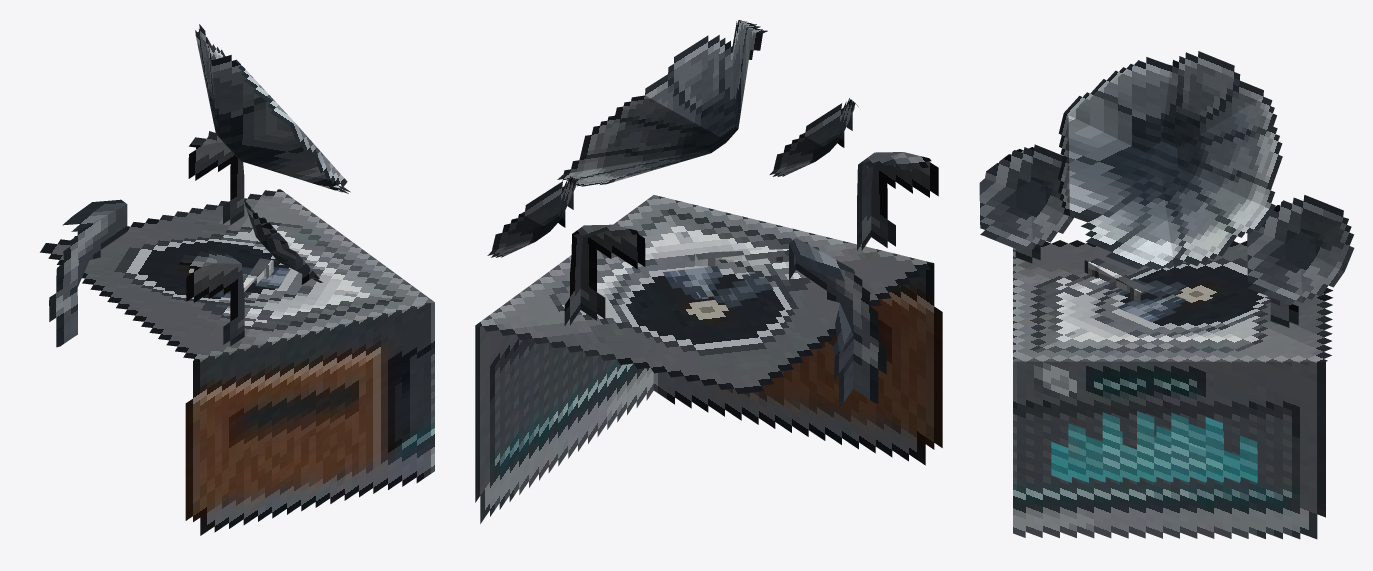
3 renders of one model, left to right at view 1: azimuth 30°, elevation 25°; view 2: azimuth 150°, elevation 25°; view 3: azimuth 270°, elevation 25°, orthographic. The views are drawn at different scales.
Parts seen in each view (by area): view 1: base, head_3, hose_3, hose_1, hose_2, head_1, stick; view 2: base, head_3, hose_3, hose_1, hose_2, head_2, head_1, lp_3, stick, lp_2; view 3: base, head_3, head_2, eq_1, head_1, eq_2, lp_3, stick, hose_2, eq_3, lp_2.
Boxes of the visible parts, left/top/right/bottom form: base: left=40, top=189, right=434, bottom=535; head_3: left=195, top=24, right=350, bottom=193; hose_3: left=49, top=199, right=127, bottom=347; hose_1: left=178, top=250, right=244, bottom=346; hose_2: left=188, top=131, right=244, bottom=225; head_1: left=244, top=200, right=322, bottom=284; stick: left=227, top=258, right=273, bottom=297; base: left=475, top=195, right=942, bottom=523; head_3: left=557, top=20, right=767, bottom=186; hose_3: left=789, top=238, right=886, bottom=407; hose_1: left=857, top=152, right=938, bottom=250; hose_2: left=564, top=224, right=645, bottom=325; head_2: left=487, top=176, right=581, bottom=257; head_1: left=769, top=98, right=858, bottom=176; lp_3: left=674, top=266, right=773, bottom=306; stick: left=695, top=249, right=788, bottom=266; lp_2: left=663, top=270, right=750, bottom=307; base: left=1013, top=240, right=1332, bottom=539; head_3: left=1058, top=51, right=1282, bottom=270; head_2: left=1247, top=195, right=1354, bottom=305; eq_1: left=1051, top=412, right=1257, bottom=482; head_1: left=979, top=144, right=1073, bottom=250; eq_2: left=1051, top=411, right=1257, bottom=463; lp_3: left=1113, top=278, right=1181, bottom=317; stick: left=1084, top=258, right=1151, bottom=303; hose_2: left=1270, top=297, right=1298, bottom=327; eq_3: left=1068, top=425, right=1257, bottom=482; lp_2: left=1118, top=284, right=1185, bottom=322.
Size of the model in its own units: 0.8424 by 1.17 by 0.8798.
Materials: 2 (2 with a texture image).
